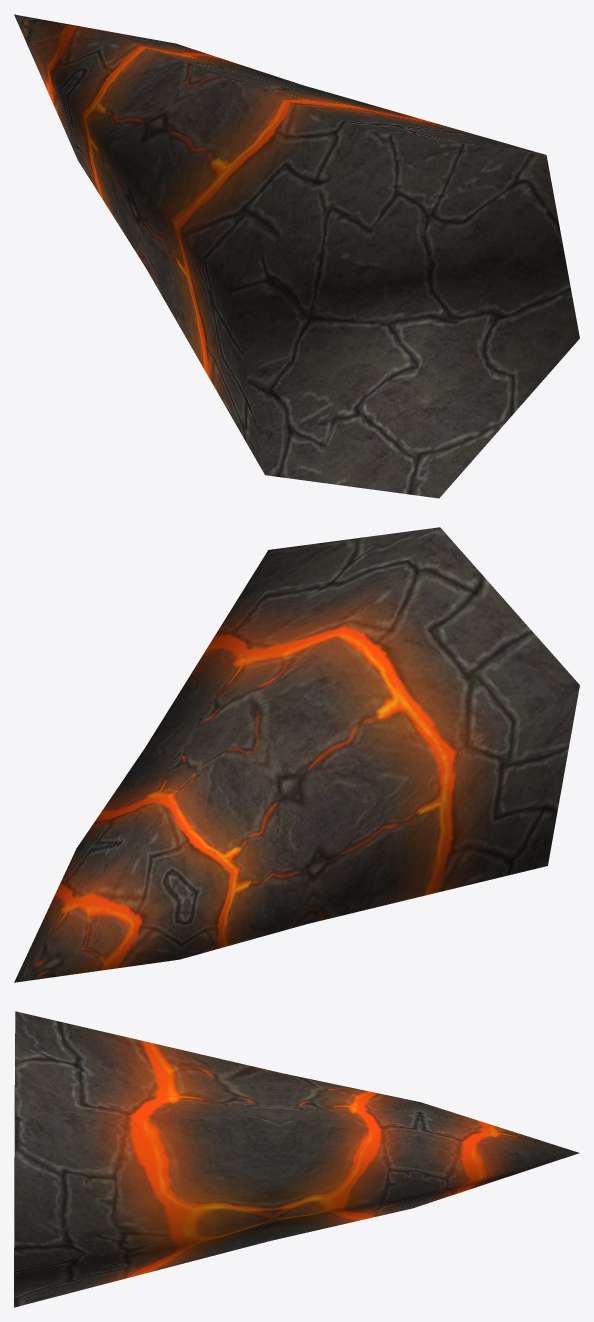
File: stalactite_10.obj
3 views of the same model, one above another, from view 1: azimuth 30°, elevation 25°; view 2: azimuth 150°, elevation 25°; view 3: azimuth 270°, elevation 25° (orthographic). The views are drawn at different scales.
Parts seen in each view (by area): view 1: (null); view 2: (null); view 3: (null).
Part boxes in pixels (x1,y1,x2,y2): (null): [14, 14, 579, 498]; (null): [14, 527, 579, 982]; (null): [14, 1011, 579, 1307].
Size of the model in its own units: 2.14 by 2.25 by 4.22.
